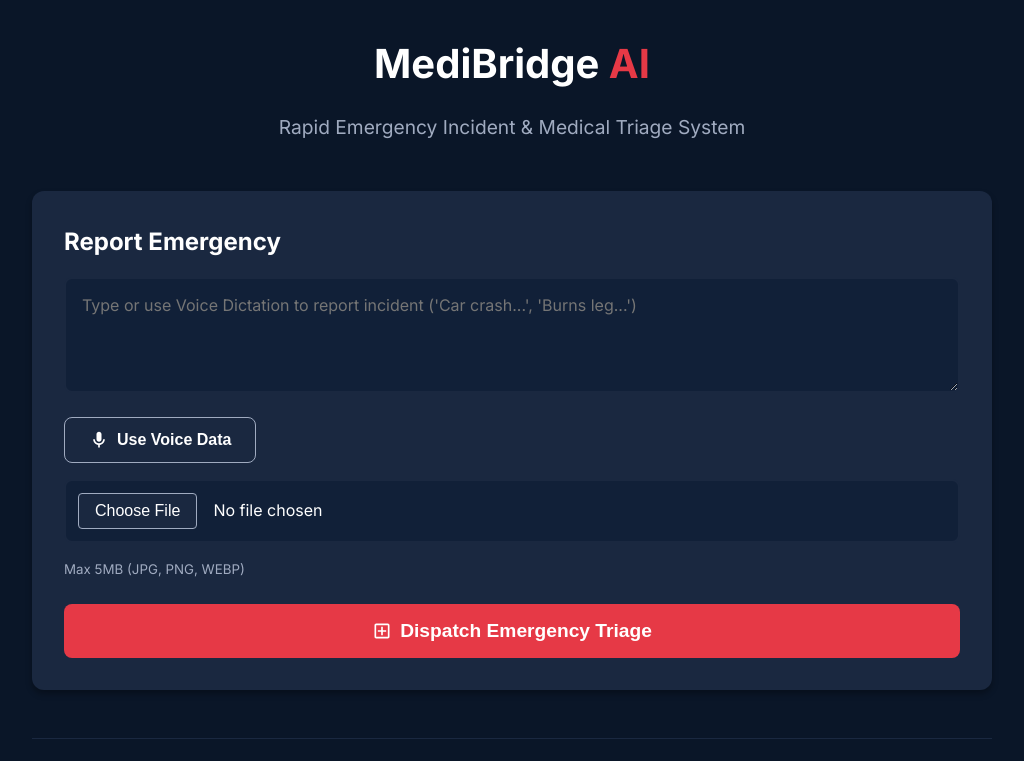
Scenario: MediBridge AI Integration Tests › handles robust Error Handling paths gracefully on system crash
The image size is (1024, 761).
Replace the text in the text box with placeholder "Type or use Voice Dictation" with "Something bad happened." at (512, 335), box [64,277,960,393]
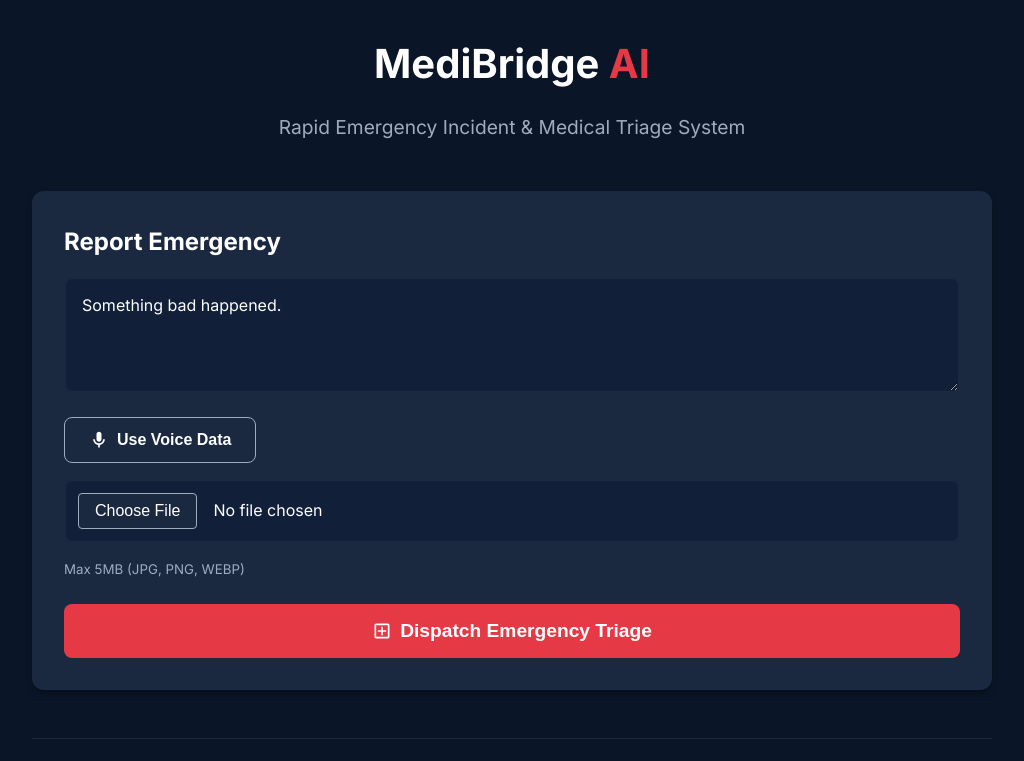
Click the button "Dispatch Emergency Triage" at (512, 631), box [64,604,960,658]
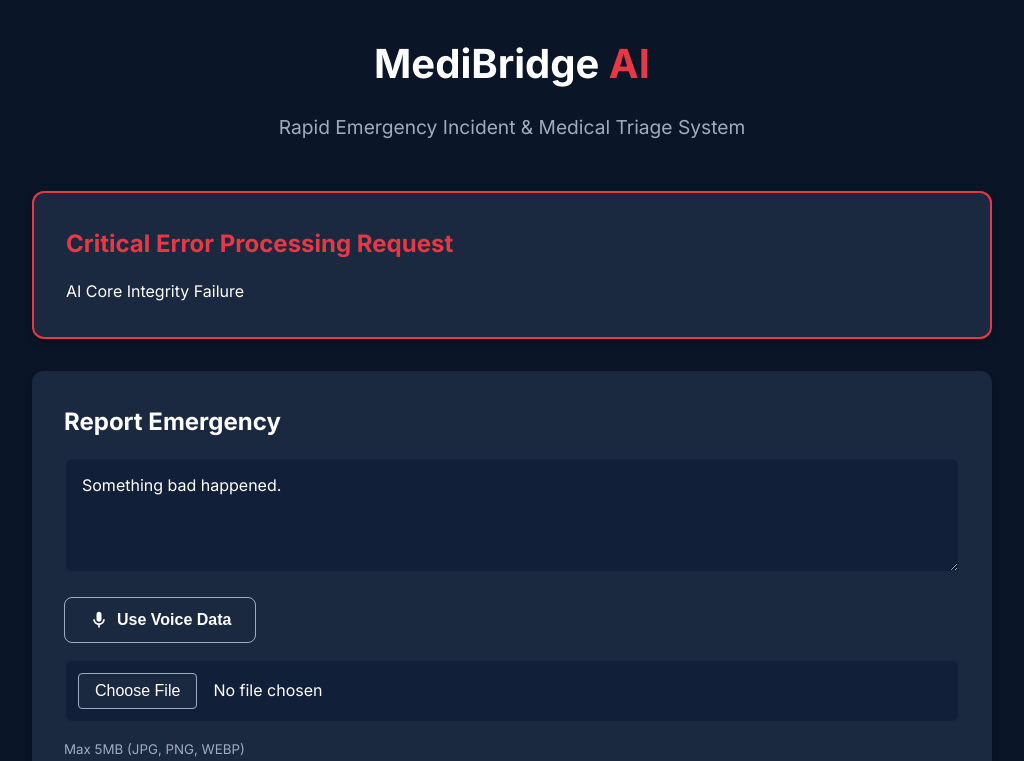
Expected: the text "AI Core Integrity Failure" is shown, [66,281,244,301]
Expected: the heading "Critical Error Processing Request" is shown, [66,229,453,258]
